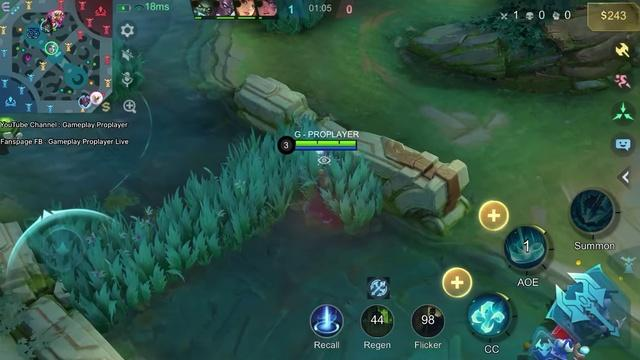bush: (173, 75, 503, 227), (128, 63, 374, 201)
hp_self: (294, 140, 358, 146)
